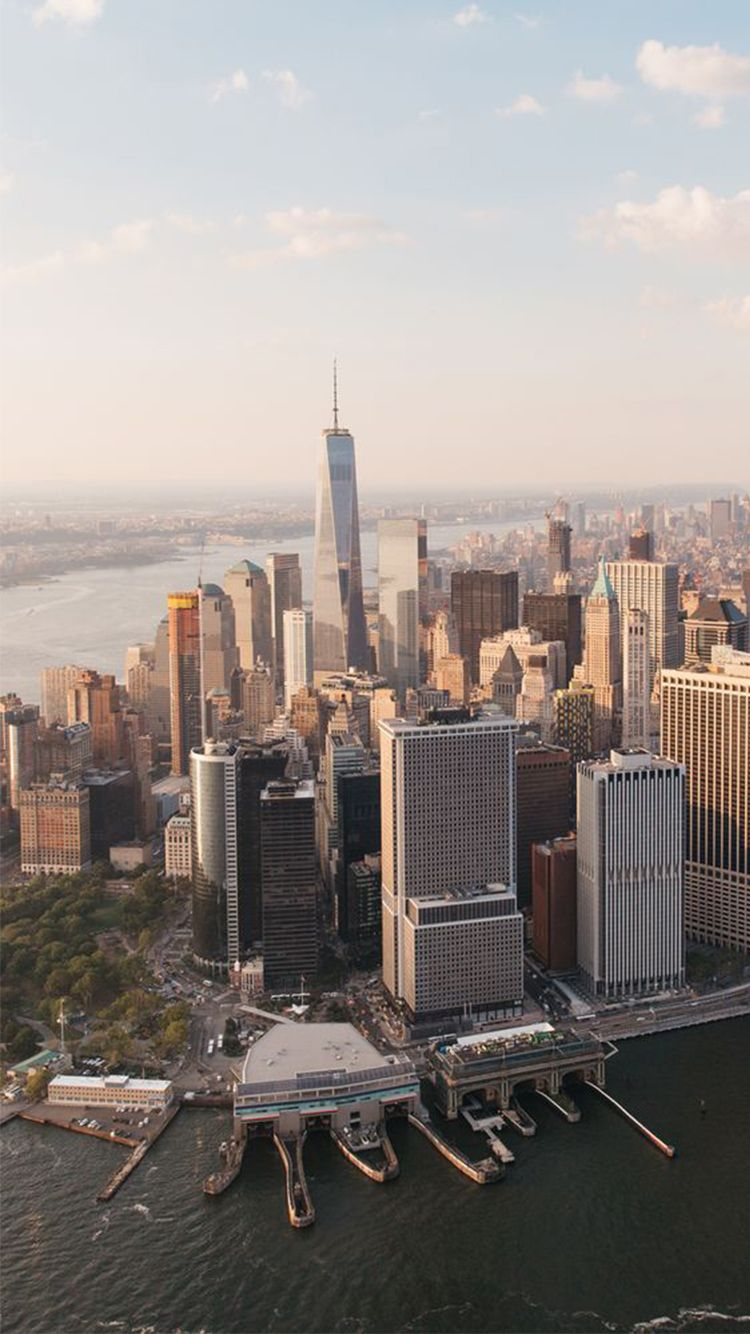wtc: (309, 354, 369, 696)
